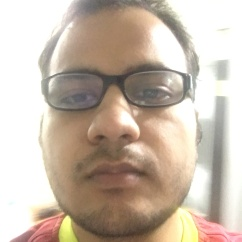glasses: (44, 70, 192, 107)
